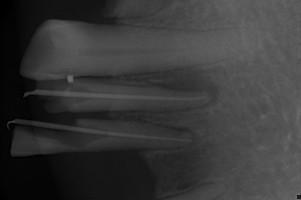Furcation Involvement: (153, 70, 223, 109), (166, 127, 200, 149)
